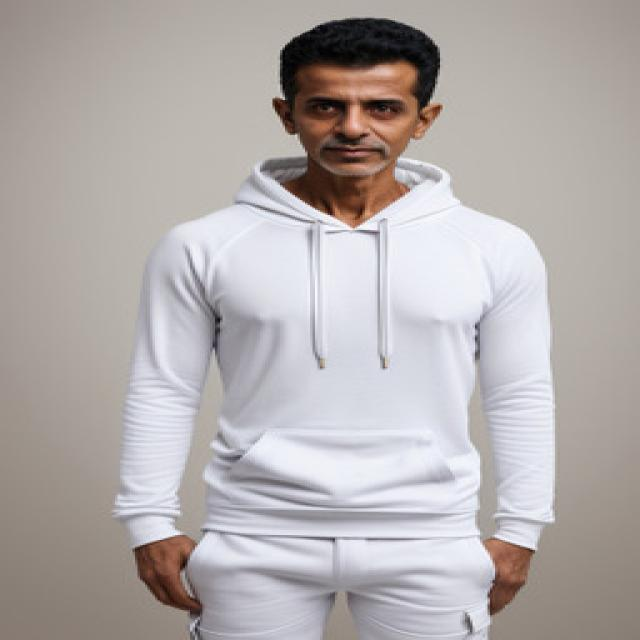Ai human 2: (100, 9, 582, 640)
